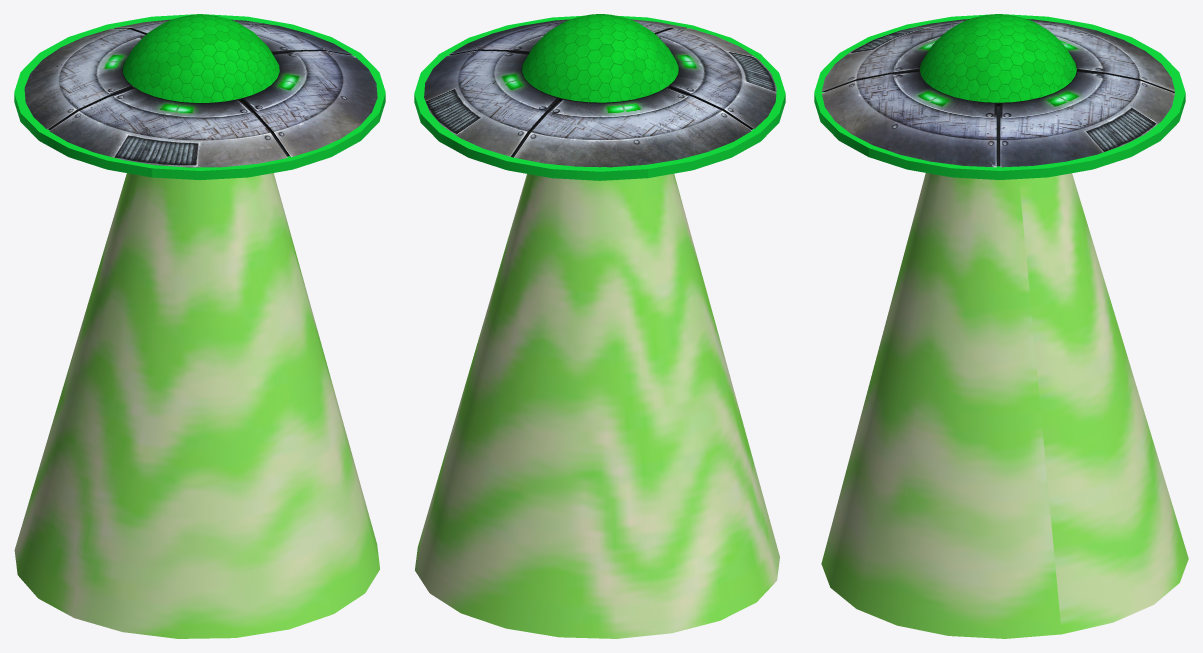
The model's file is Farm_ufo.fbx.
The picture shows the model from 3 angles, left to right: view 1: azimuth 30°, elevation 25°; view 2: azimuth 150°, elevation 25°; view 3: azimuth 270°, elevation 25°; orthographic projection.
Visible parts, largest first — view 1: Farm_ufo; view 2: Farm_ufo; view 3: Farm_ufo.
Boxes of the visible parts, <box> form: Farm_ufo: <box>14,14,385,638</box>; Farm_ufo: <box>414,14,785,638</box>; Farm_ufo: <box>814,14,1188,638</box>.
Bounding box in the file's own units: 2860 × 2884 × 4605.
